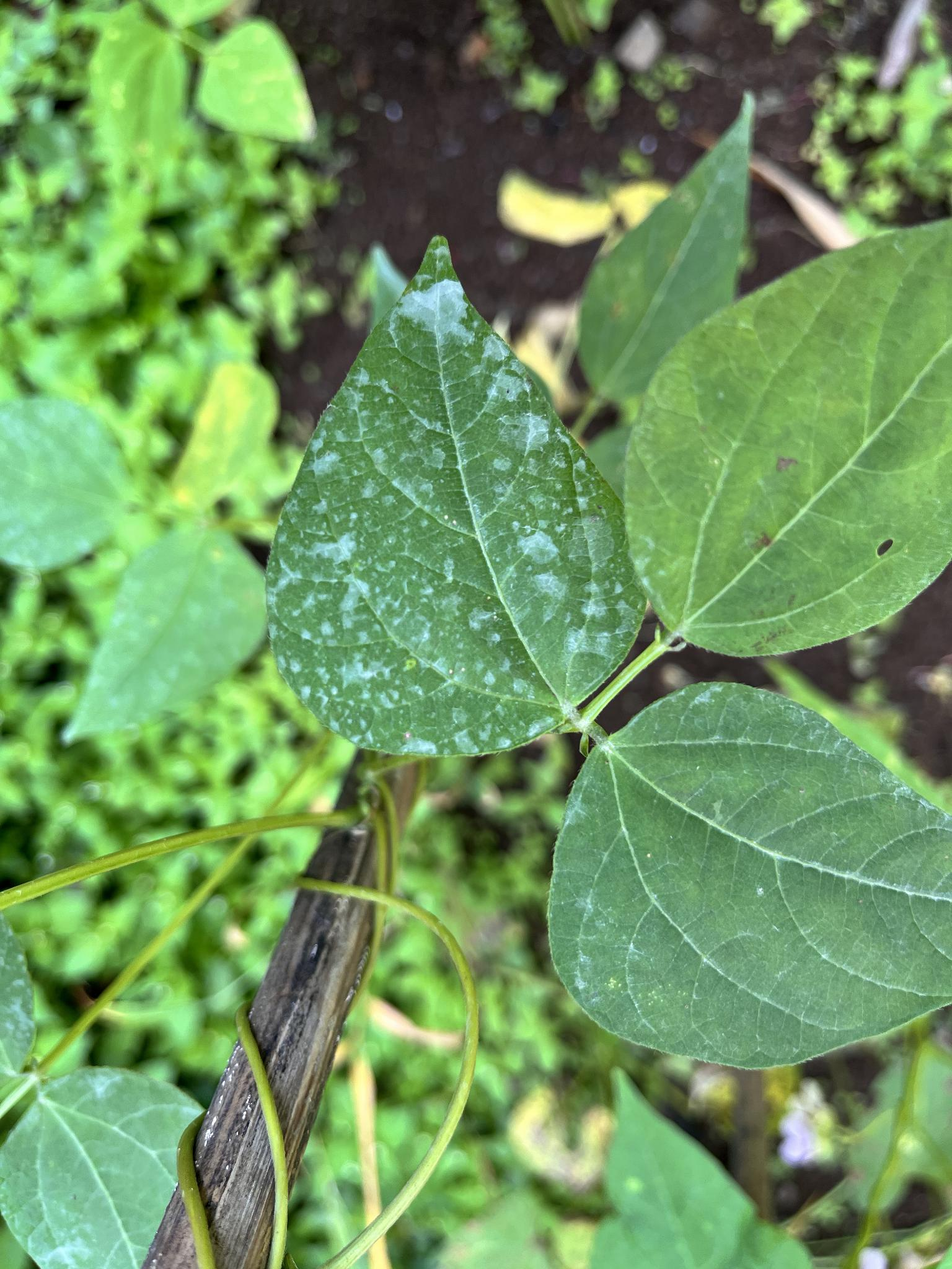embun tepung: (268, 245, 650, 758)
